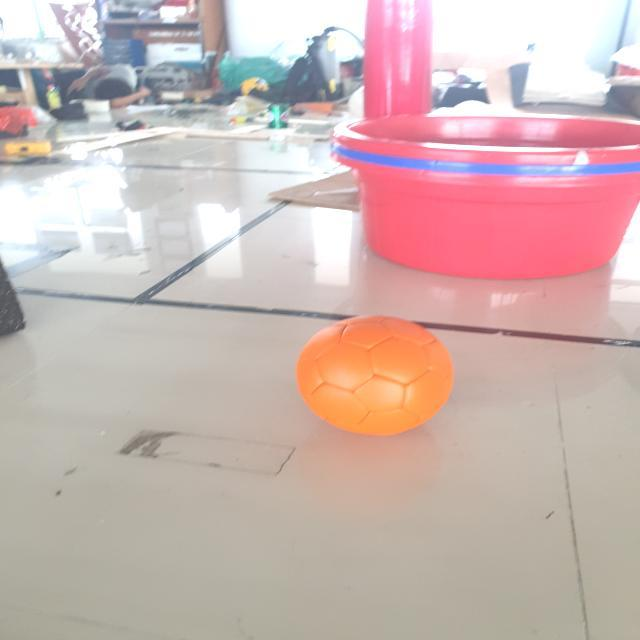bola: (298, 308, 458, 448)
